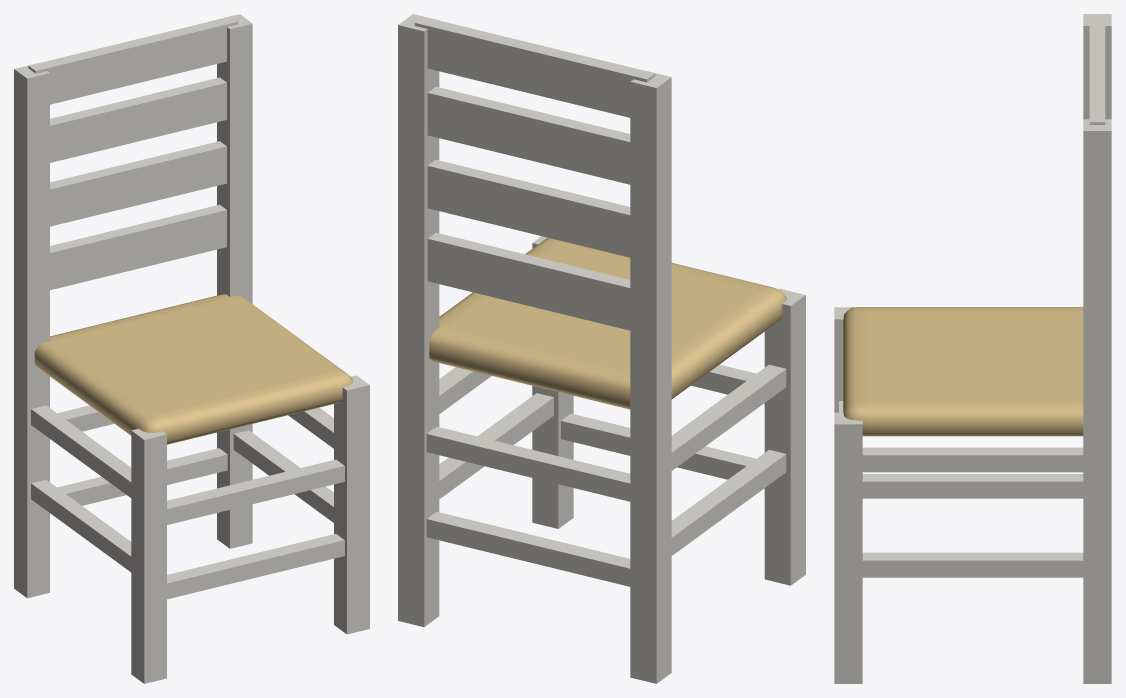
The model's file is chair-white.glb.
The picture shows the model from 3 angles, left to right: view 1: azimuth 30°, elevation 25°; view 2: azimuth 150°, elevation 25°; view 3: azimuth 270°, elevation 25°; orthographic projection. The views are drawn at different scales.
Parts seen in each view (by area): view 1: rush4, paint2, paint3, paint0, paint1, paint8, paint7, paint5, paint6, paint13, paint9, paint11 (+5 smaller); view 2: rush4, paint2, paint3, paint8, paint7, paint6, paint5, paint0, paint10, paint14, paint11, paint15 (+5 smaller); view 3: rush4, paint3, paint1, paint12, paint11, paint16, paint8, paint2, paint0.
Boxes of the visible parts, x1,y1,x2,y2 form: rush4: (34,294,353,444); paint2: (14,63,49,598); paint3: (217,14,252,548); paint0: (131,428,166,683); paint1: (334,375,369,634); paint8: (28,16,238,104); paint7: (50,77,226,162); paint5: (50,204,226,290); paint6: (50,141,226,226); paint13: (167,459,344,524); paint9: (167,534,344,599); paint11: (31,479,131,572); rush4: (429,238,786,409); paint2: (630,70,671,683); paint3: (398,14,439,626); paint8: (414,16,655,117); paint7: (427,86,630,184); paint6: (427,159,630,257); paint5: (427,232,630,330); paint0: (764,289,805,585); paint10: (426,512,630,586); paint14: (426,426,630,501); paint11: (671,450,786,555); paint15: (671,364,786,470); rush4: (843,307,1083,436); paint3: (1083,119,1111,683); paint1: (834,412,862,683); paint12: (862,552,1083,577); paint11: (862,447,1083,472); paint16: (862,474,1083,498); paint8: (1089,17,1105,124); paint2: (1083,14,1111,119); paint0: (834,307,851,412).
Size of the model in its own units: 0.445 by 0.985 by 0.445.
